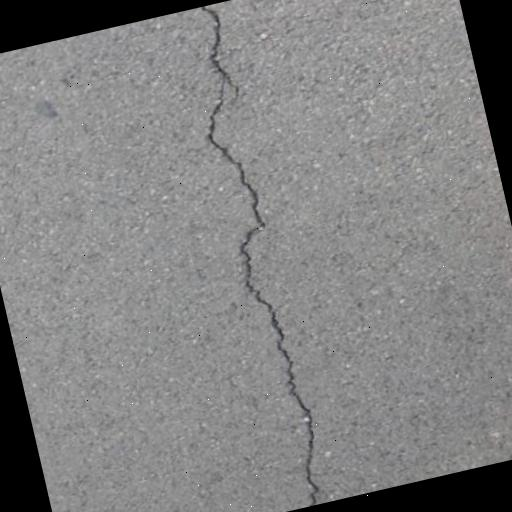spalling: (181, 9, 345, 505)
